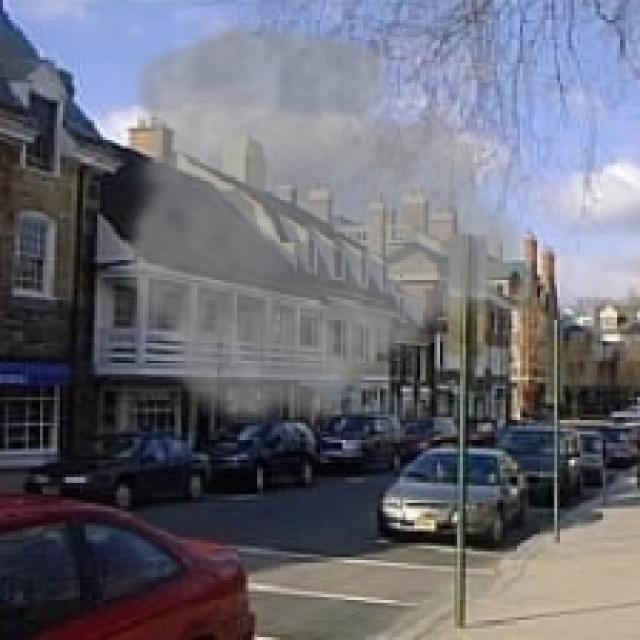Smoke: (117, 14, 540, 437)
